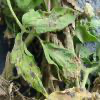Tomato leaf late blight: (10, 31, 49, 99), (42, 40, 80, 81), (21, 8, 77, 34)
